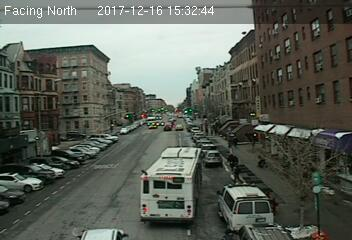bus: (137, 146, 205, 227)
car: (205, 150, 222, 164)
police: (218, 182, 274, 233)
